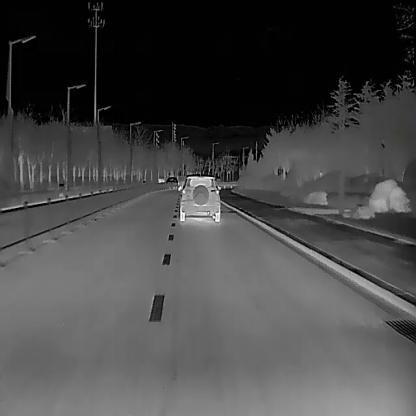car: (179, 175, 220, 221), (165, 177, 178, 190), (158, 176, 165, 182)
